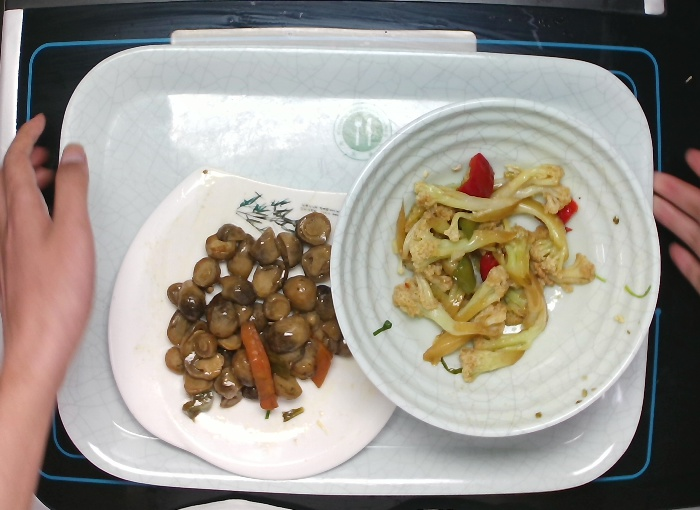JYsf-Da_Tang_Wan: (320, 89, 667, 442)
JYsf-Mian_Pan: (104, 162, 416, 483)
